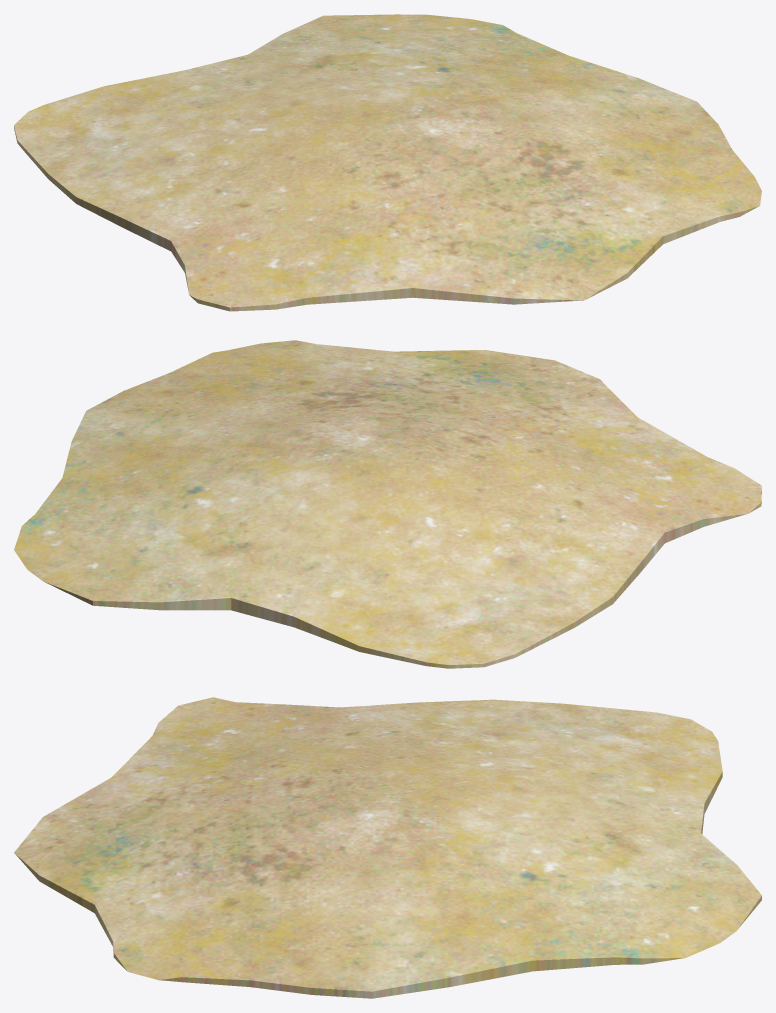
Rendered from Sand piece.fbx.
The picture shows the model from 3 angles, top to bottom: view 1: azimuth 30°, elevation 25°; view 2: azimuth 150°, elevation 25°; view 3: azimuth 270°, elevation 25°; orthographic projection. The views are drawn at different scales.
Parts seen in each view (by area): view 1: Plane.001; view 2: Plane.001; view 3: Plane.001.
Boxes of the visible parts, x1,y1,x2,y2 form: Plane.001: (14,14,761,311); Plane.001: (14,340,761,668); Plane.001: (14,697,761,998).
Bounding box in the file's own units: 1964 × 150 × 2089.
